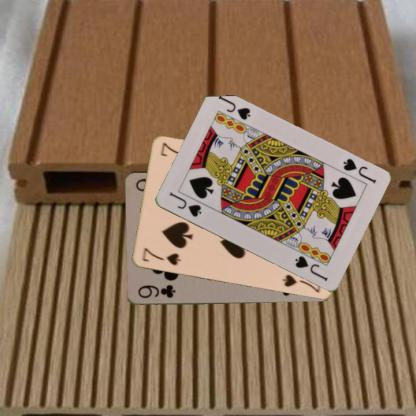7s: (140, 245, 182, 267)
9c: (135, 282, 177, 299)
Js: (339, 156, 377, 186), (166, 190, 203, 218)
